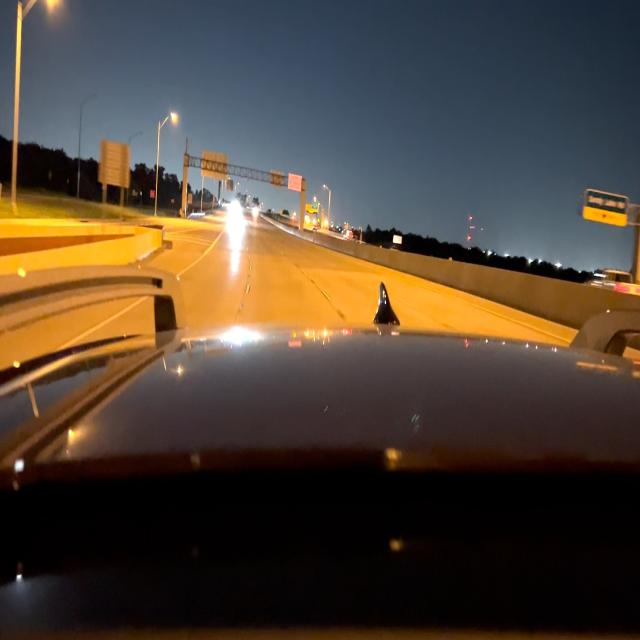back-of-sign: (100, 139, 129, 186)
